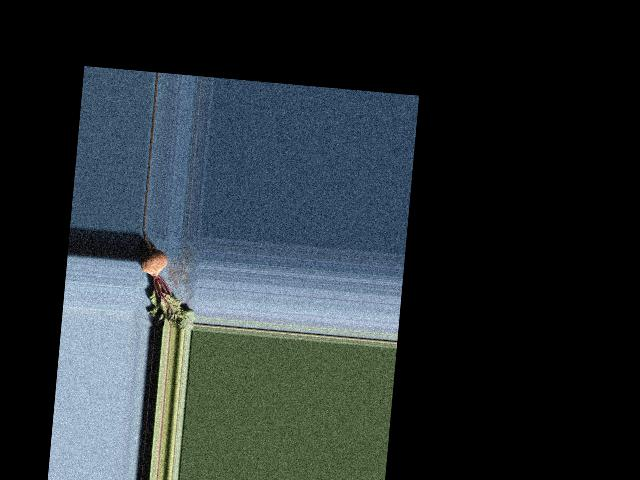beet: (134, 230, 201, 331)
